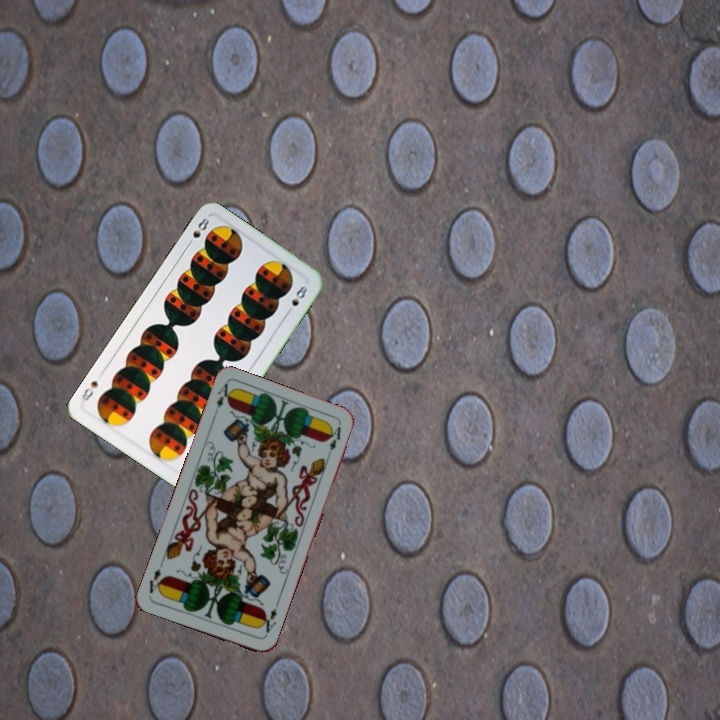EA: (209, 380, 235, 419), (256, 599, 281, 636)
S8: (183, 214, 212, 250)
